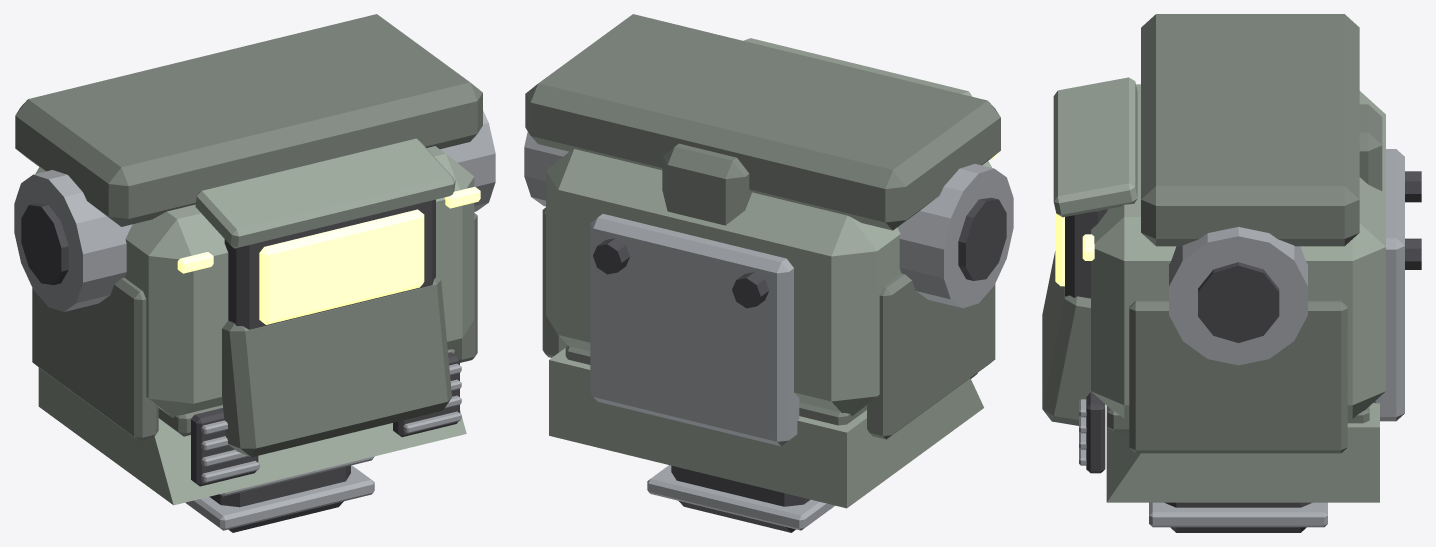
The model's file is light-torso.glb.
3 renders of one model, left to right at view 1: azimuth 30°, elevation 25°; view 2: azimuth 150°, elevation 25°; view 3: azimuth 270°, elevation 25°, orthographic.
Parts seen in each view (by area): view 1: torso; view 2: torso; view 3: torso.
Part boxes in pixels (left/top/right/bottom): torso: left=14, top=14, right=495, bottom=532; torso: left=524, top=14, right=1013, bottom=532; torso: left=1042, top=14, right=1421, bottom=532.
Bounding box in the file's own units: 2.1 × 1.89 × 1.6.
